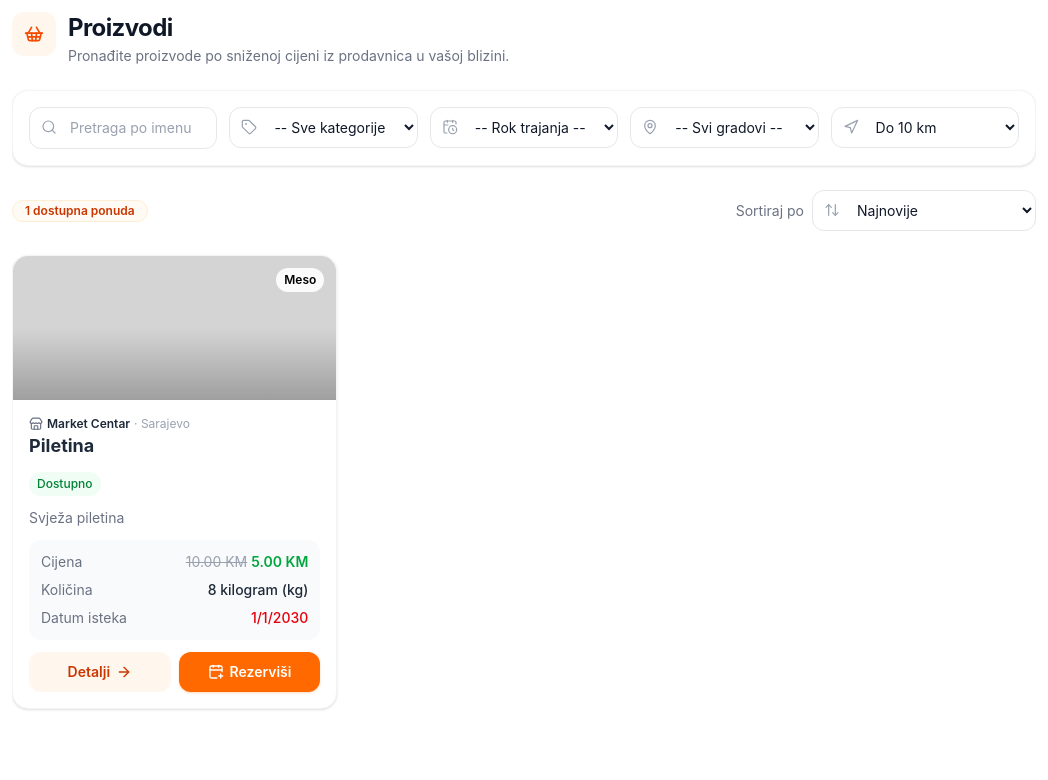
BrowseProductsPage › sends the city filter as an id from the list and clears it
Expected: the heading "Piletina" is shown, [29,435,94,456]
Select "Tuzla" in the dropdown named "Grad" at coordinates (724, 128), box [630,107,819,148]
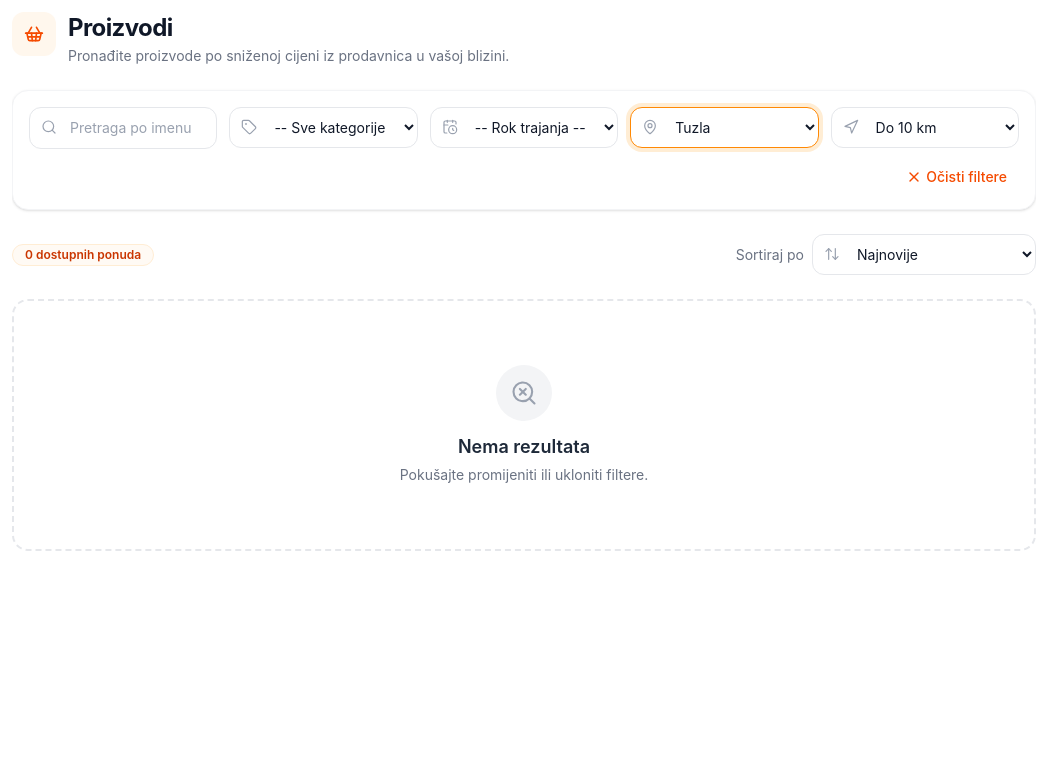
Result: the heading "Nema rezultata" is shown at [458,436,590,457]
Click the button "Očisti filtere" at coordinates (957, 177), box [894,161,1019,193]
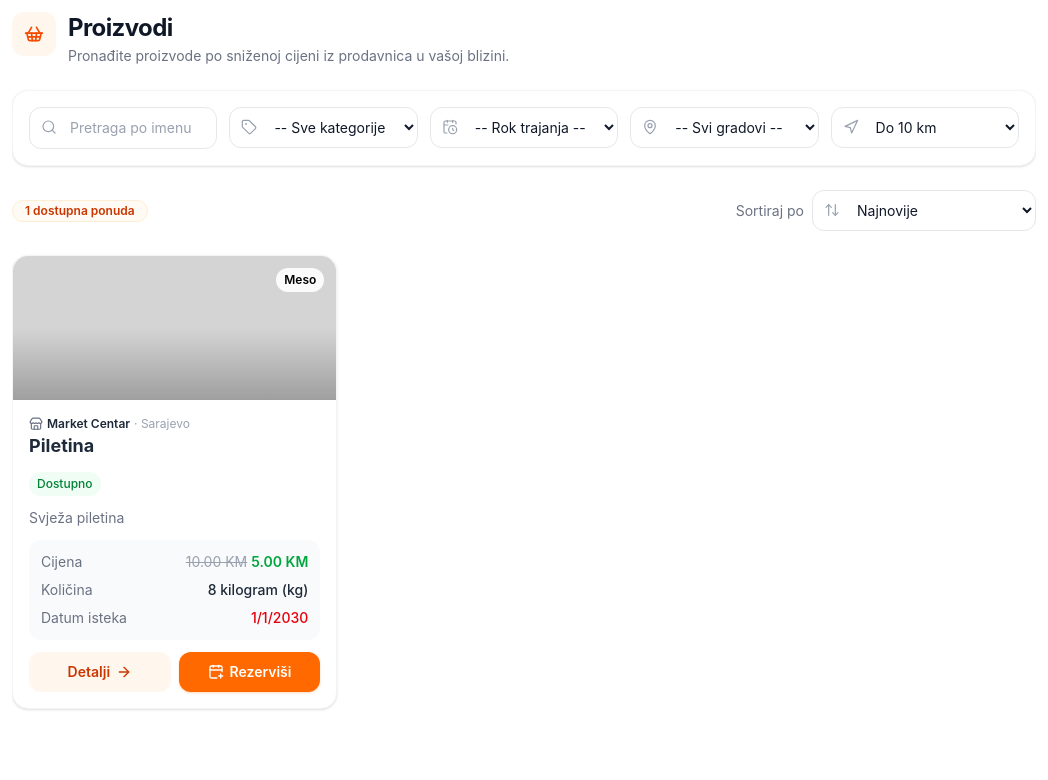
Result: the heading "Piletina" is shown at [29,435,94,456]
